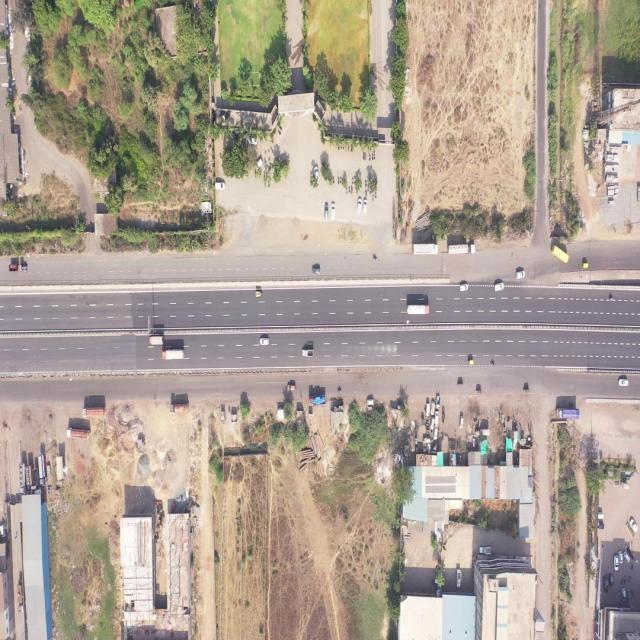3W: (580, 261, 592, 273), (254, 290, 264, 297), (457, 380, 464, 389), (523, 386, 530, 395), (468, 360, 475, 366), (476, 389, 482, 396)
Bus: (550, 244, 572, 266), (412, 242, 440, 255)
Cars: (617, 377, 631, 389), (215, 181, 227, 193), (494, 282, 506, 293), (458, 414, 465, 432), (259, 337, 271, 347), (323, 203, 329, 222), (331, 203, 337, 221), (356, 197, 362, 213), (363, 198, 369, 214), (312, 265, 322, 274), (516, 270, 525, 280), (460, 283, 469, 292), (287, 385, 297, 391)
LCV: (302, 348, 315, 360), (366, 399, 375, 406)
M2W: (337, 387, 343, 394), (372, 255, 378, 262), (490, 361, 496, 367), (609, 296, 614, 302)
MAV: (555, 404, 583, 422), (447, 242, 478, 256), (405, 302, 431, 318), (66, 427, 91, 443), (161, 348, 185, 362), (82, 406, 106, 419), (169, 403, 190, 415)
Truck: (308, 395, 327, 406), (9, 263, 28, 273), (148, 335, 164, 346)
